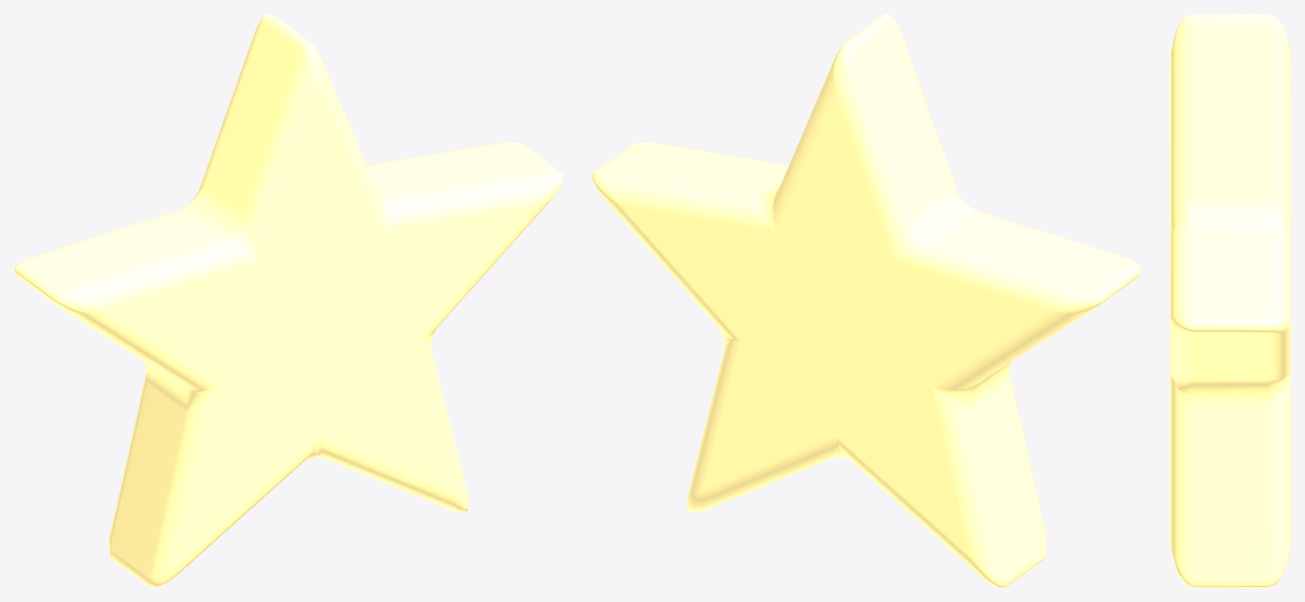
The model's file is star_soul.glb.
3 renders of one model, left to right at view 1: azimuth 30°, elevation 25°; view 2: azimuth 150°, elevation 25°; view 3: azimuth 270°, elevation 25°, orthographic.
Parts seen in each view (by area): view 1: Star.FaceFree; view 2: Star.FaceFree; view 3: Star.FaceFree.
Part boxes in pixels (x1,y1,x2,y2): Star.FaceFree: [14, 14, 563, 587]; Star.FaceFree: [592, 14, 1141, 587]; Star.FaceFree: [1170, 14, 1290, 587].
Bounding box in the file's own units: 0.3674 × 0.35 × 0.0769.
